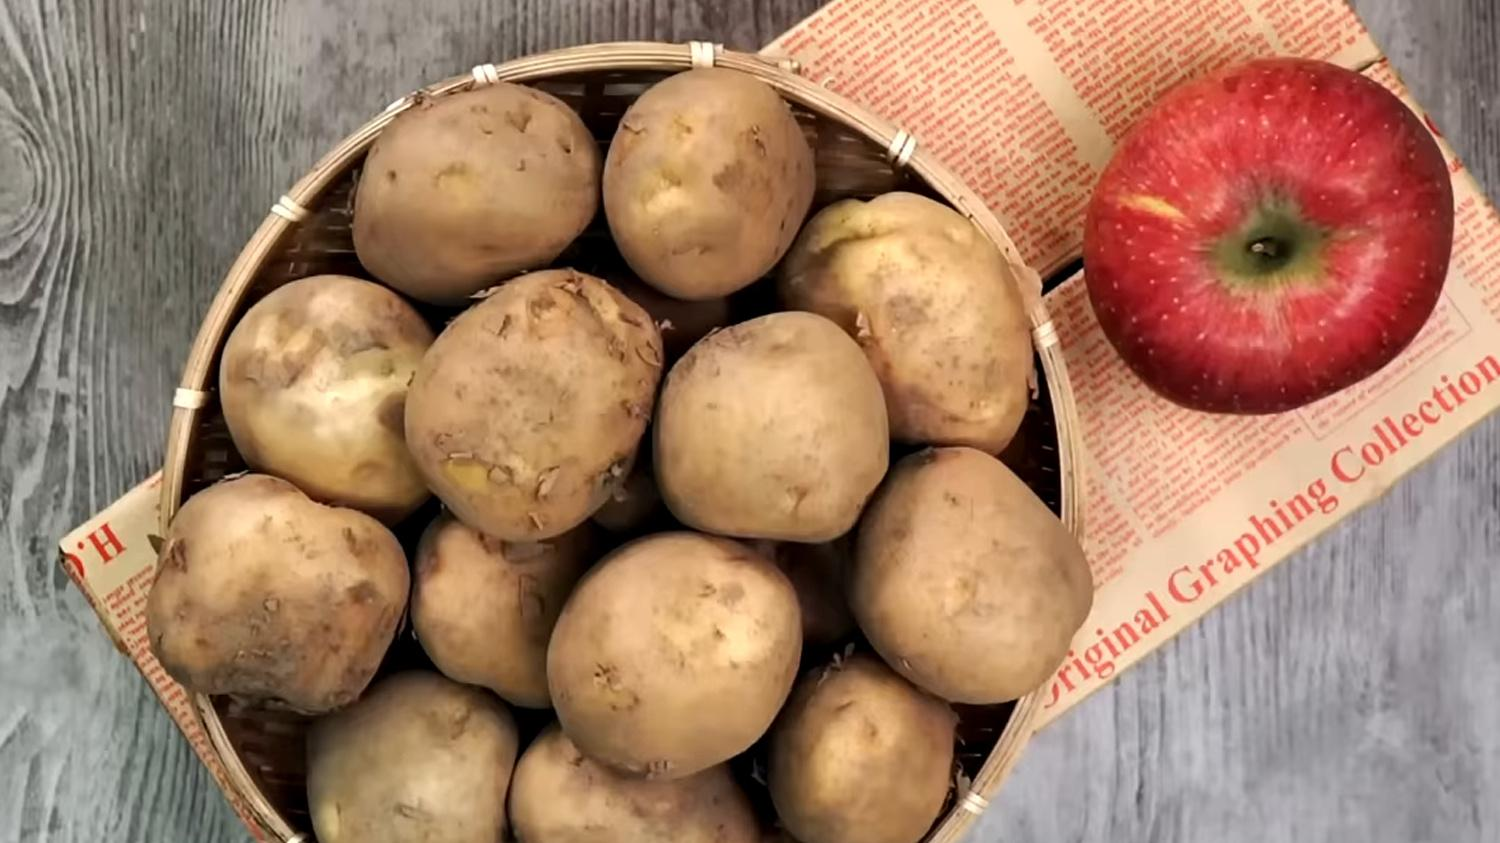potato: (947, 370, 1500, 704), (314, 647, 994, 843), (1252, 413, 1500, 704), (1178, 683, 1500, 843)
